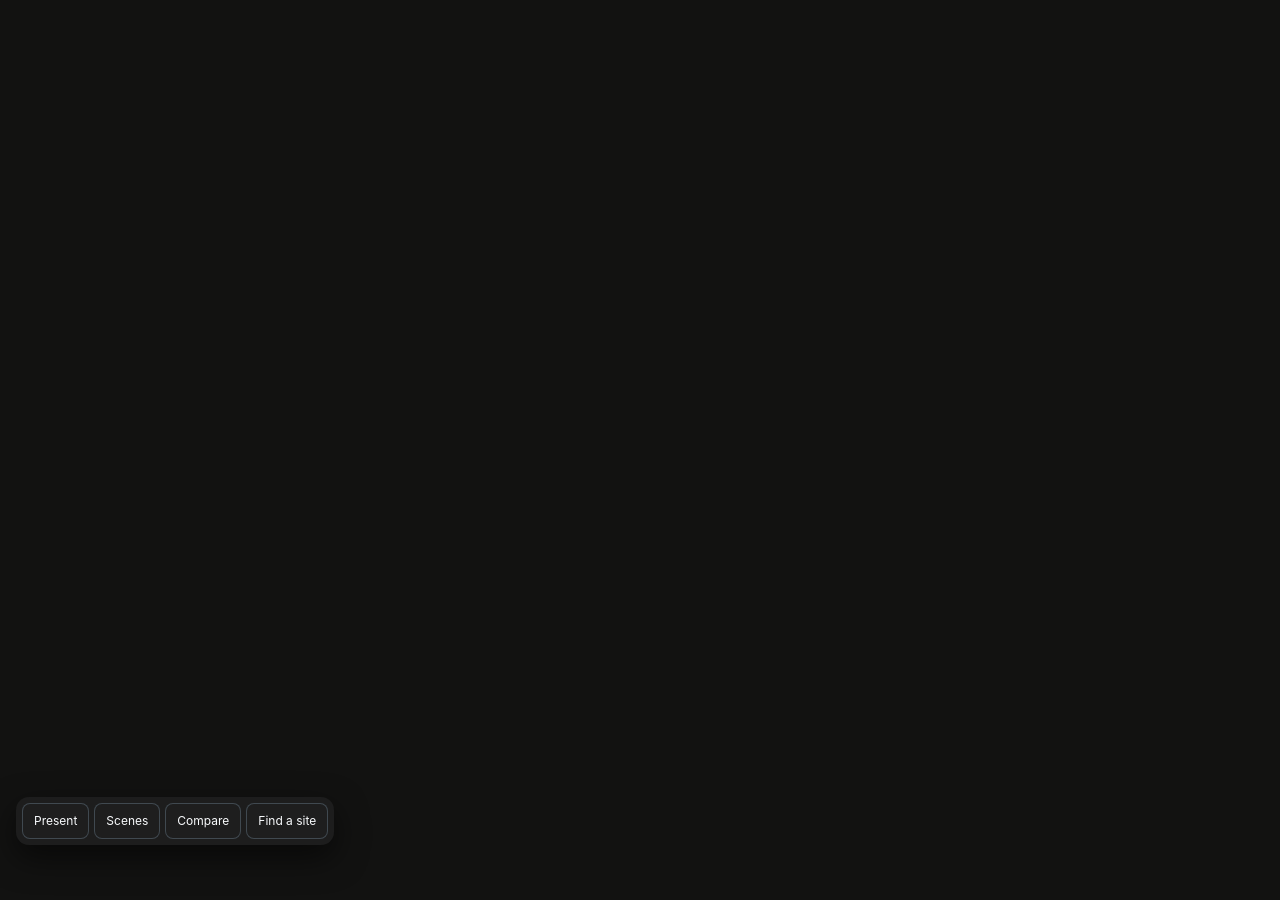
Test case: map display reset clears comparison, site options and active presentation without deleting saved scenes
Click the button "Scenes".
click(127, 821)  # box [94,803,160,839]
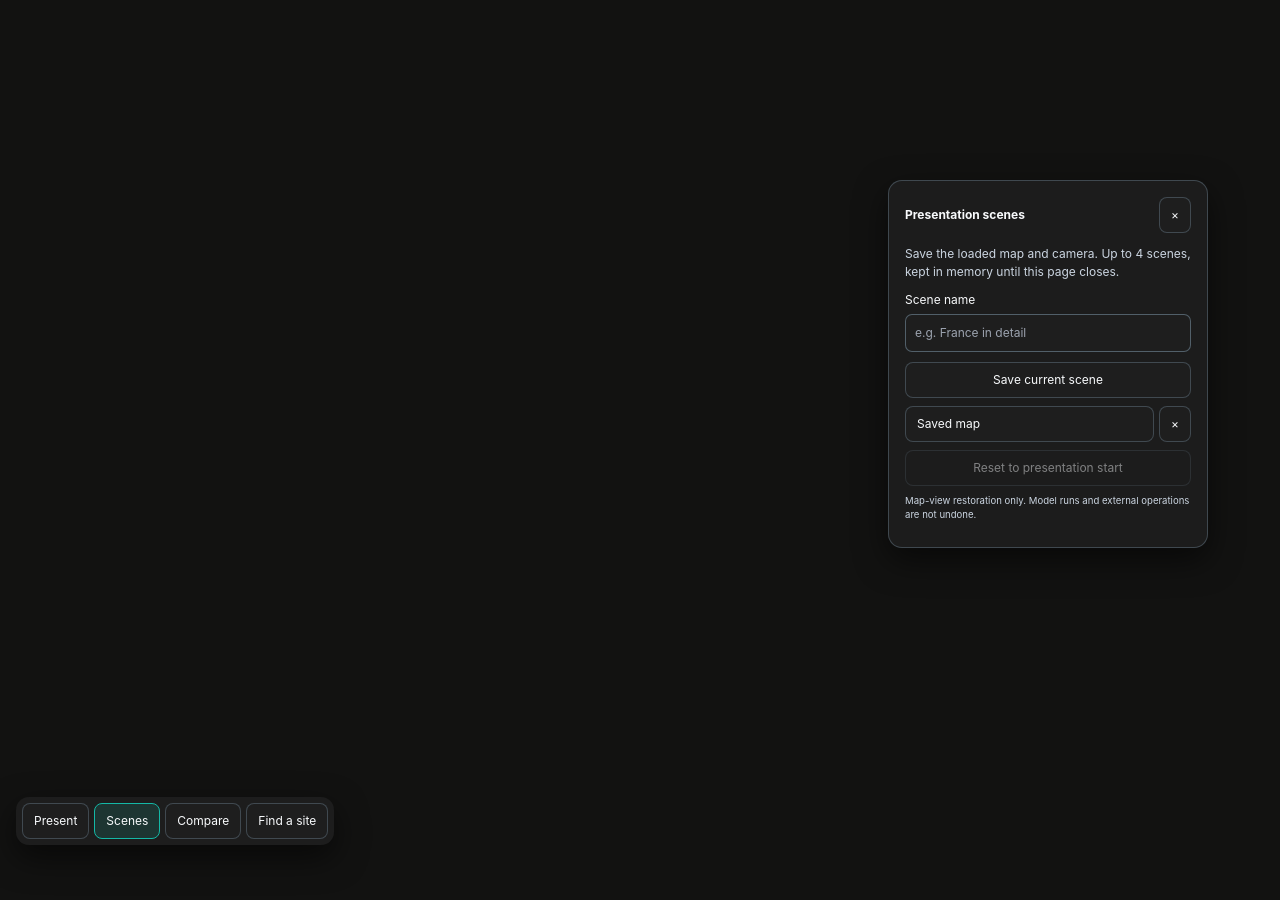
Result: the button "Saved map" is shown at [905,406,1154,442]
